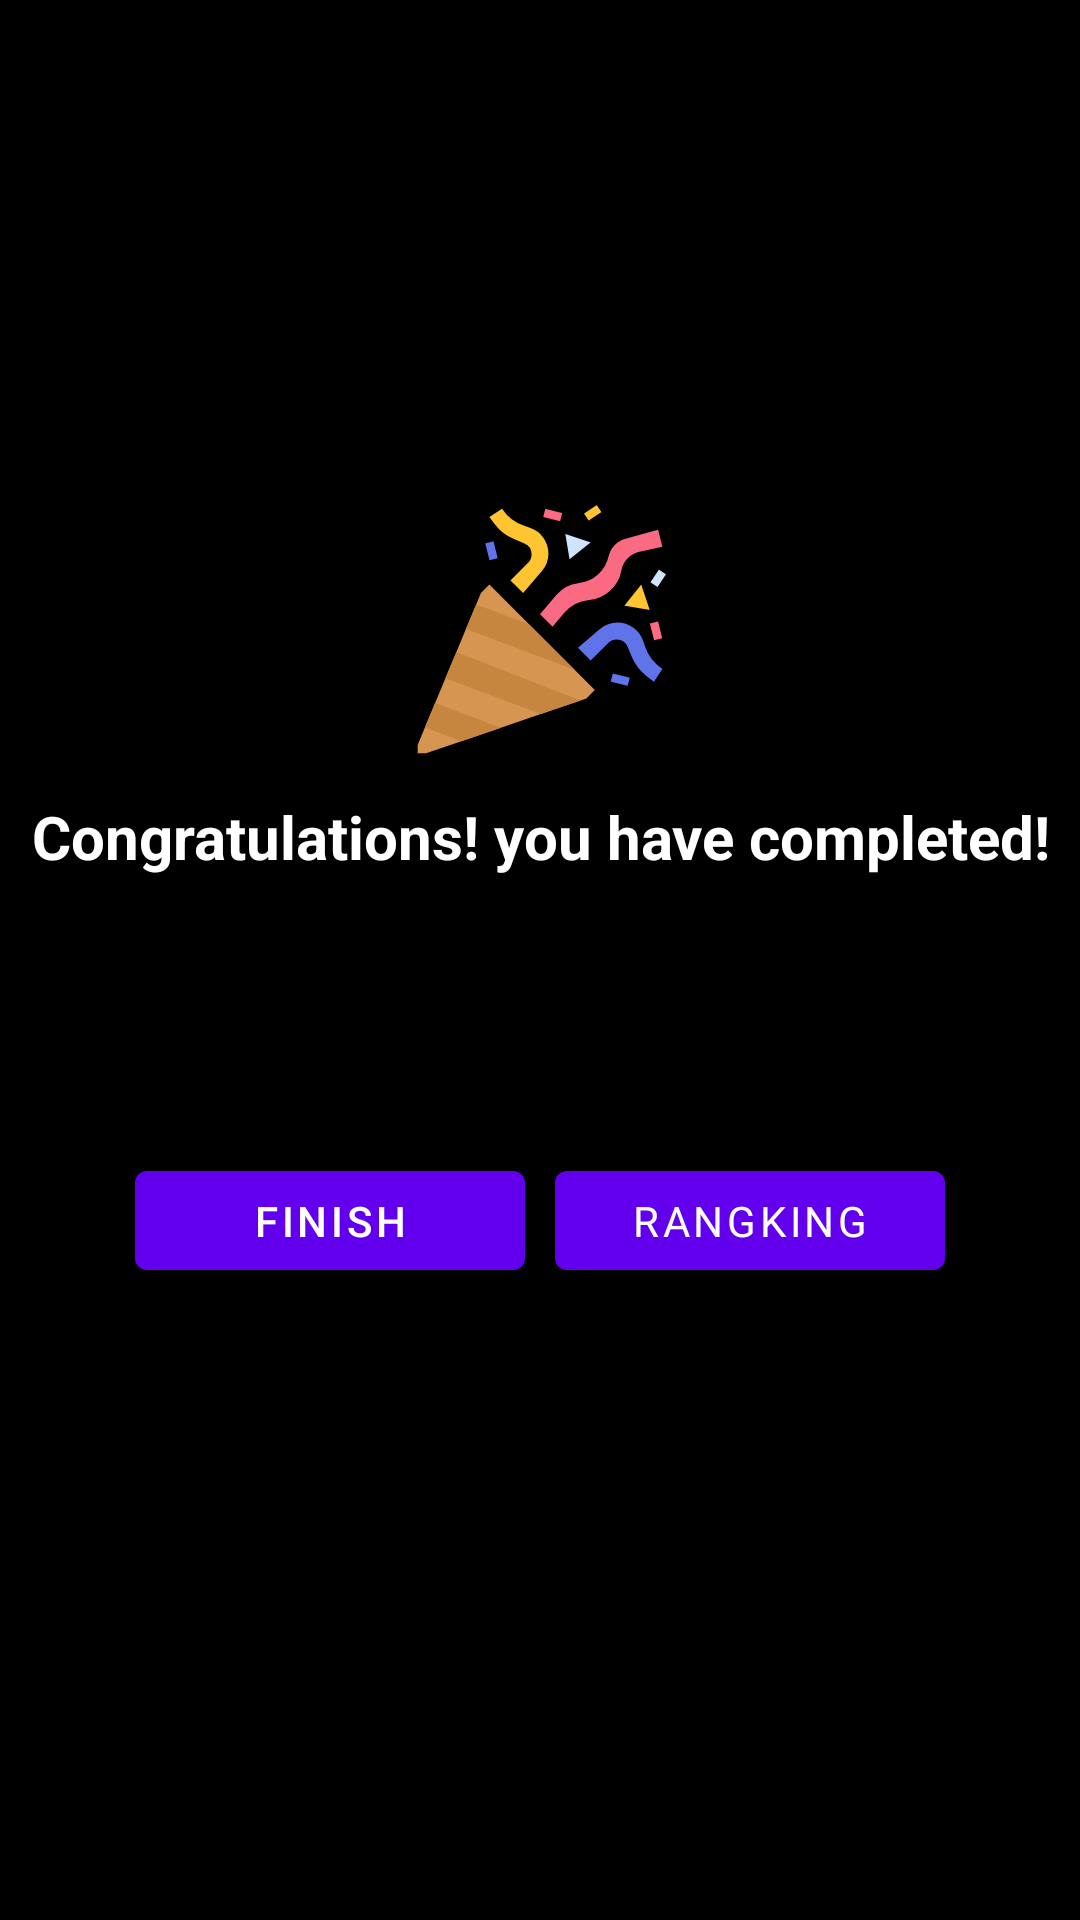

Icon bounding boxes for this 1080w x 1920h phone screenshot, format (x1, y1, x2, y2):
fire cracker: (417, 505, 666, 754)
